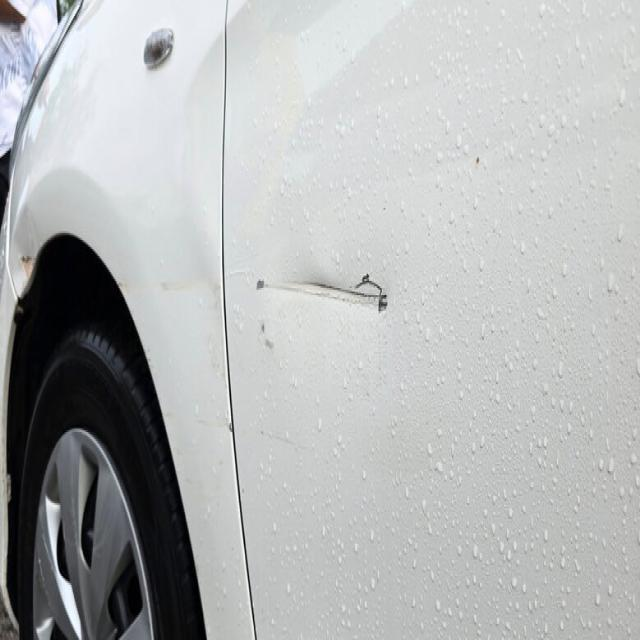Dent: (0, 217, 18, 627), (257, 276, 386, 312), (117, 280, 215, 291), (260, 431, 308, 449), (160, 280, 204, 291), (20, 256, 35, 280), (265, 336, 274, 350), (265, 338, 274, 350)
